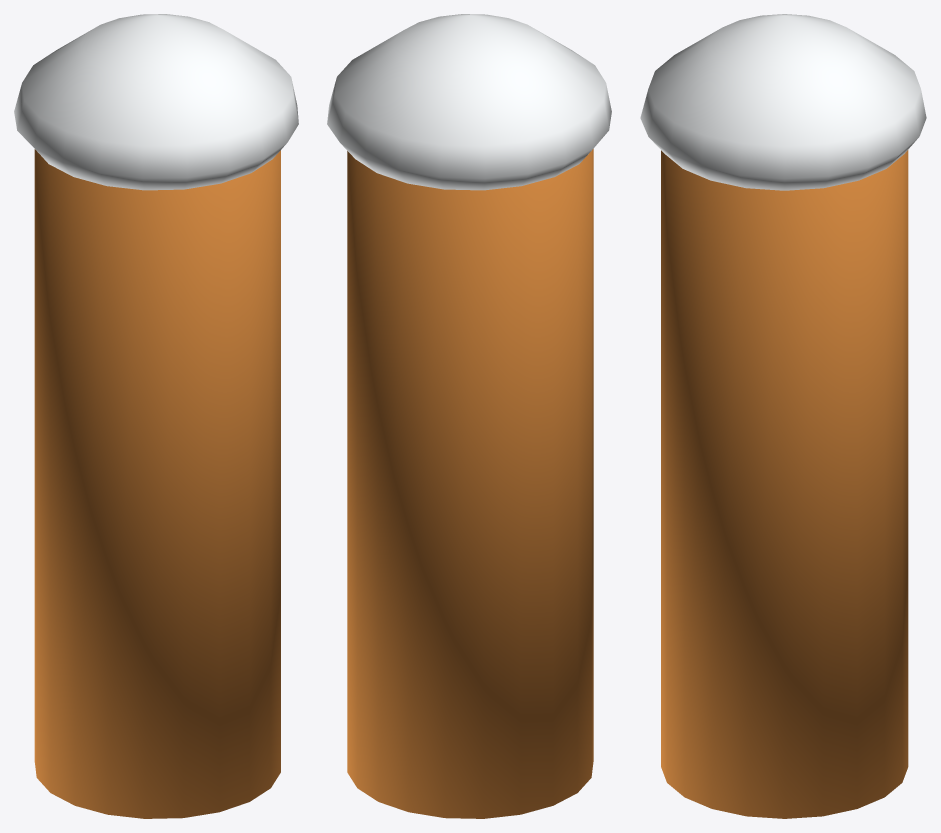
Rendered from Log_Single_01.glb.
The picture shows the model from 3 angles, left to right: view 1: azimuth 30°, elevation 25°; view 2: azimuth 150°, elevation 25°; view 3: azimuth 270°, elevation 25°; orthographic projection.
Parts seen in each view (by area): view 1: Log_Single_01_Log, Log_Single_01_Snow; view 2: Log_Single_01_Log, Log_Single_01_Snow; view 3: Log_Single_01_Log, Log_Single_01_Snow.
Boxes of the visible parts, x1=… form: Log_Single_01_Log: x1=34, y1=149, x2=280, y2=818; Log_Single_01_Snow: x1=14, y1=14, x2=298, y2=190; Log_Single_01_Log: x1=347, y1=149, x2=593, y2=818; Log_Single_01_Snow: x1=327, y1=14, x2=611, y2=190; Log_Single_01_Log: x1=661, y1=150, x2=908, y2=818; Log_Single_01_Snow: x1=640, y1=14, x2=926, y2=190.
Bounding box in the file's own units: 0.266 × 0.77 × 0.266.
